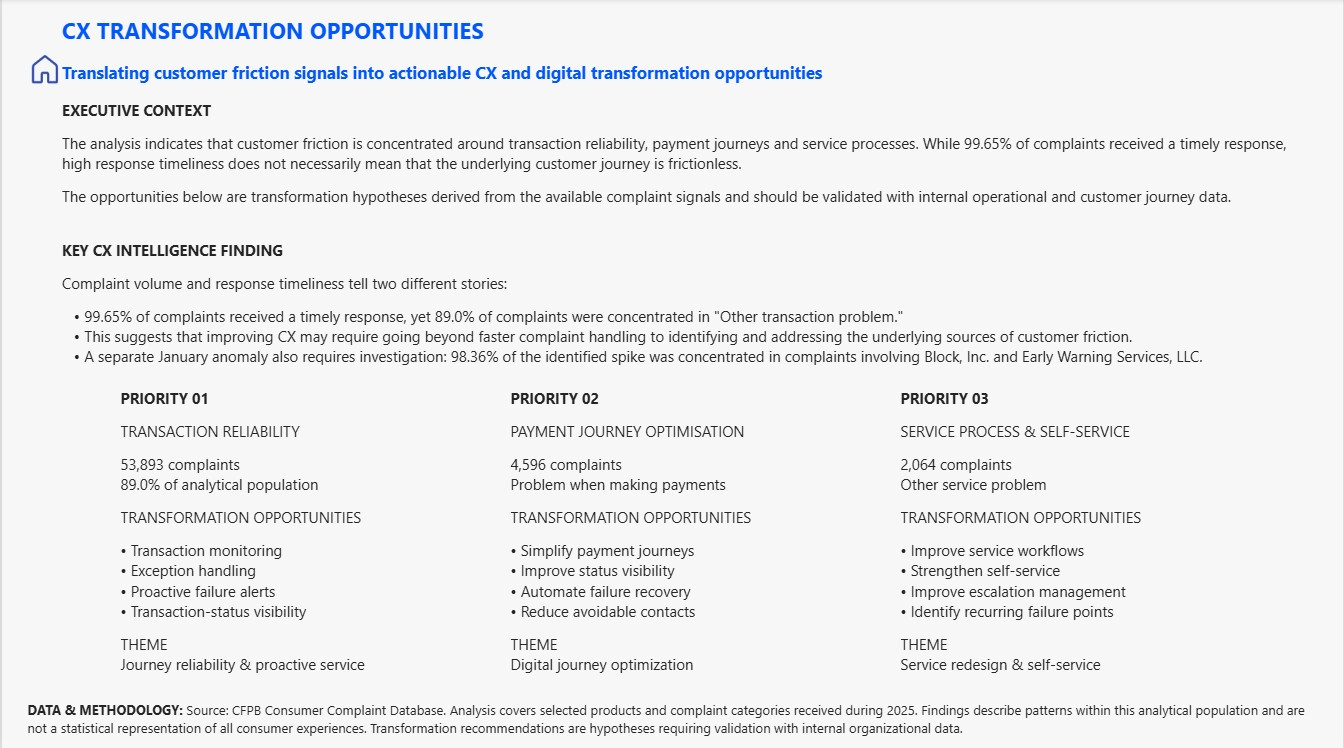

This screenshot's page, from the dashboard's own definition file:
{"tool":"powerbi","page":{"name":"CX Transformation Opportunities","canvas":[1920,1080],"ordinal":2},"visuals":[{"type":"textbox","box":[85.9,23.9,1283.6,45.3],"z":0},{"type":"textbox","box":[85.9,90.7,1173.9,54.9],"z":1000},{"type":"image","box":[35.8,69.2,50.1,66.8],"z":2000},{"type":"textbox","box":[85.9,145.5,1782.3,169.4],"z":3000},{"type":"textbox","box":[85.9,346,1782.3,193.3],"z":4000},{"type":"textbox","box":[169.4,558.3,386.5,427.1],"z":4001},{"type":"textbox","box":[727.7,558.3,408,427.1],"z":4002},{"type":"textbox","box":[1286,558.3,362.7,427.1],"z":4003},{"type":"textbox","box":[35.8,1006.9,1832.4,57.3],"z":4004}]}

Visuals, with their boxes in screenshot pixels (x1, y1, x2, y2), scaled from the page's 1920x1080 canvas onto the 1344x748 screenshot:
textbox: <region>60, 17, 959, 48</region>
textbox: <region>60, 63, 882, 101</region>
image: <region>25, 48, 60, 94</region>
textbox: <region>60, 101, 1308, 218</region>
textbox: <region>60, 240, 1308, 374</region>
textbox: <region>119, 387, 389, 682</region>
textbox: <region>509, 387, 795, 682</region>
textbox: <region>900, 387, 1154, 682</region>
textbox: <region>25, 697, 1308, 737</region>
